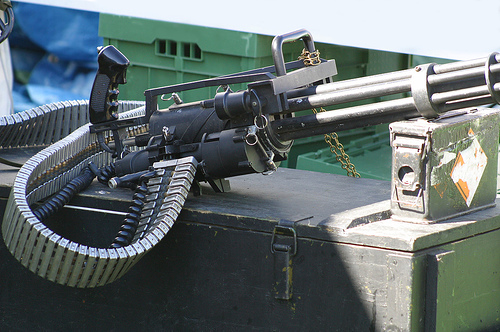rifle: (23, 43, 490, 288)
